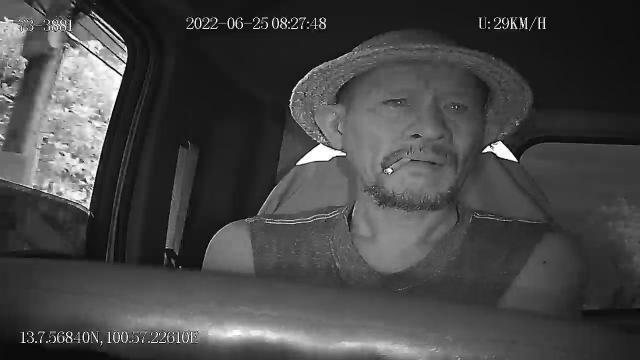SafeDriving: (376, 86, 416, 114), (436, 92, 474, 118)
Smoking: (382, 155, 413, 175)
